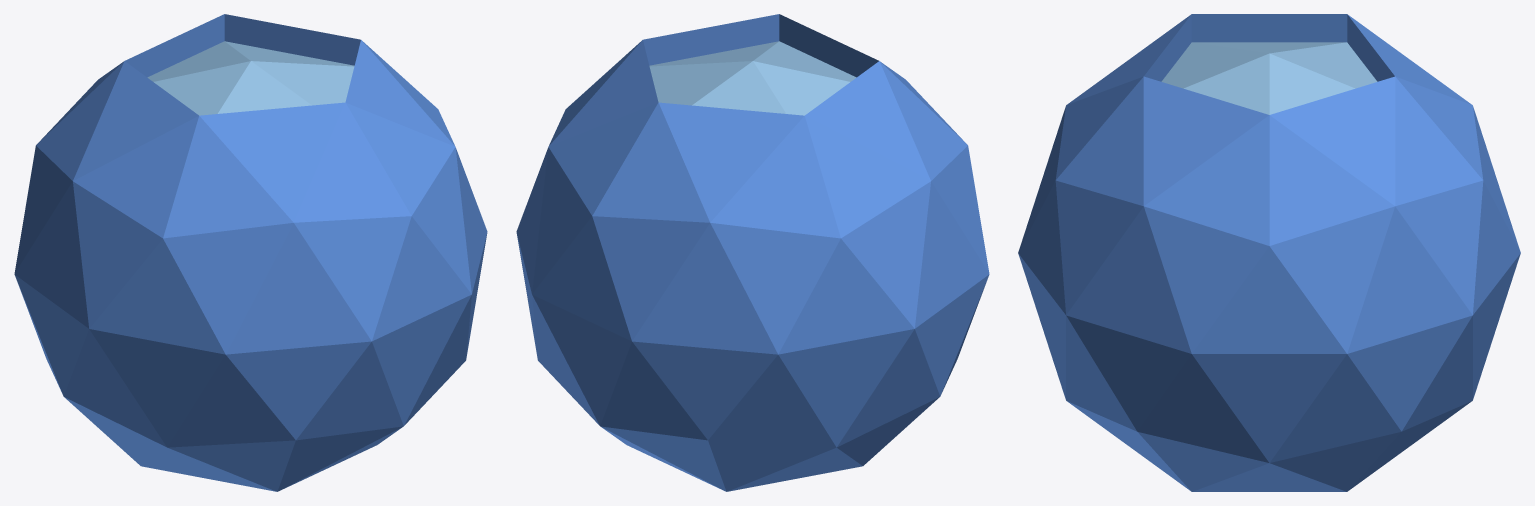
File: blueberry.fbx
3 renders of one model, left to right at view 1: azimuth 30°, elevation 25°; view 2: azimuth 150°, elevation 25°; view 3: azimuth 270°, elevation 25°, orthographic. The views are drawn at different scales.
Parts seen in each view (by area): view 1: bluberry; view 2: bluberry; view 3: bluberry.
Boxes of the visible parts, x1,y1,x2,y2 form: bluberry: (14, 14, 487, 491); bluberry: (516, 14, 989, 491); bluberry: (1018, 14, 1520, 491).
Size of the model in its own units: 38.04 by 37.52 by 40.
